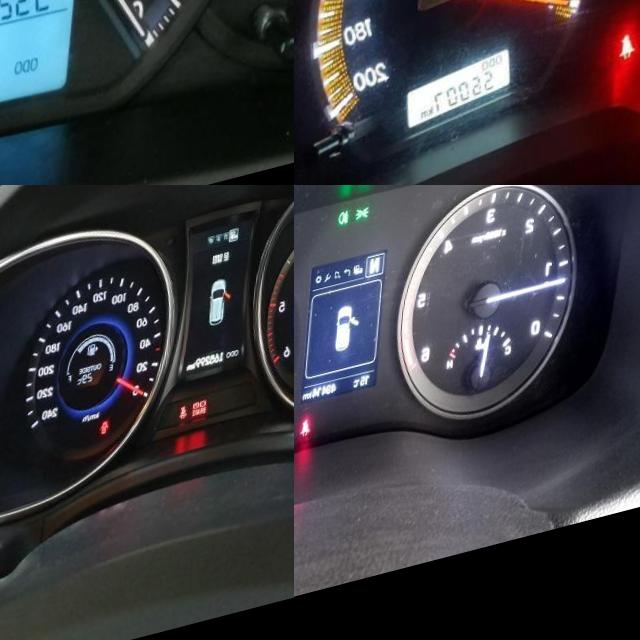Doors: (107, 429, 117, 445)
Seat Belt: (625, 53, 640, 81)
SideLamp: (361, 220, 375, 237)
